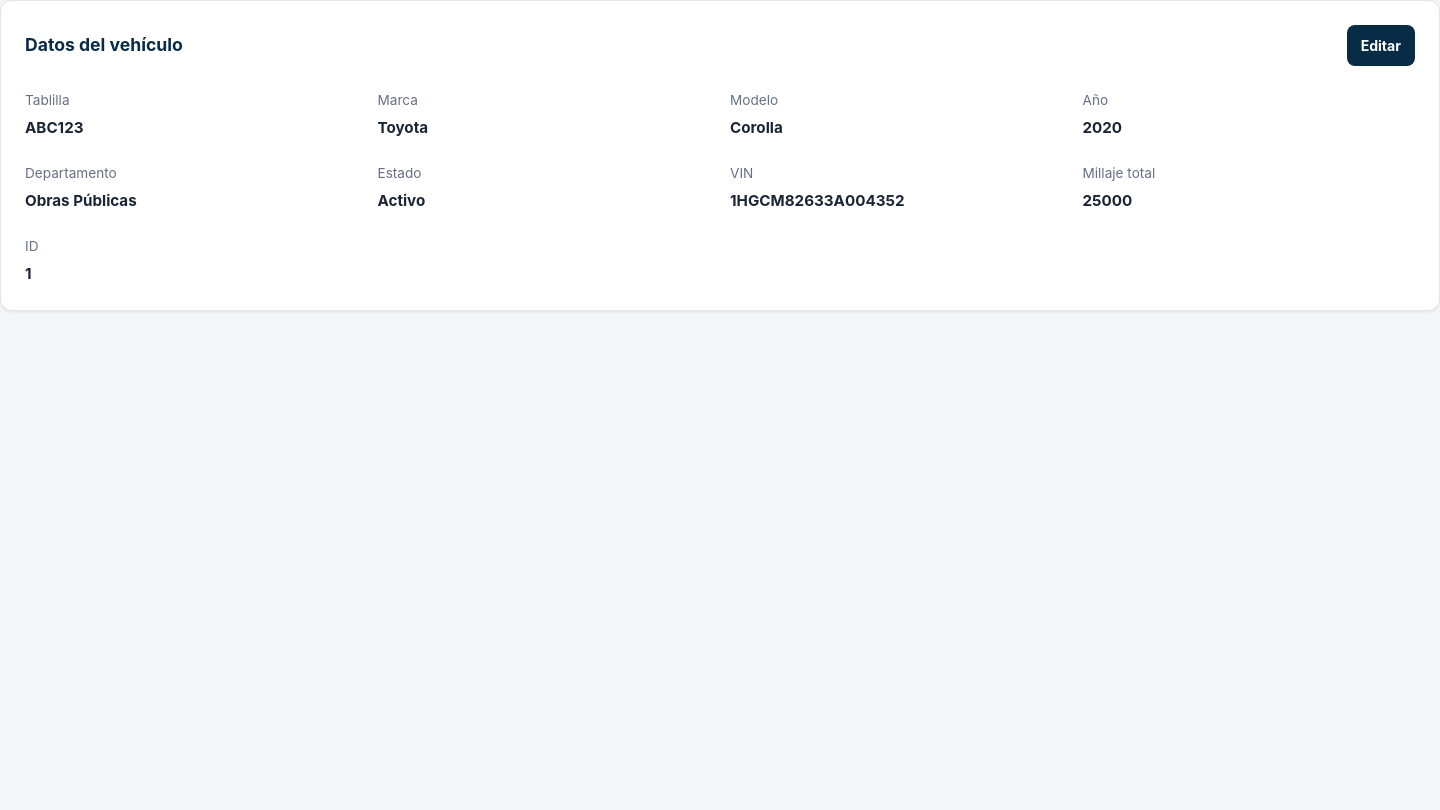
Test case: Vehicle Information - Component Tests › VI-UT-FE-09 cancels without saving changes
Click the button "Editar".
click(1381, 46)  # box left=1347, top=25, right=1415, bottom=66
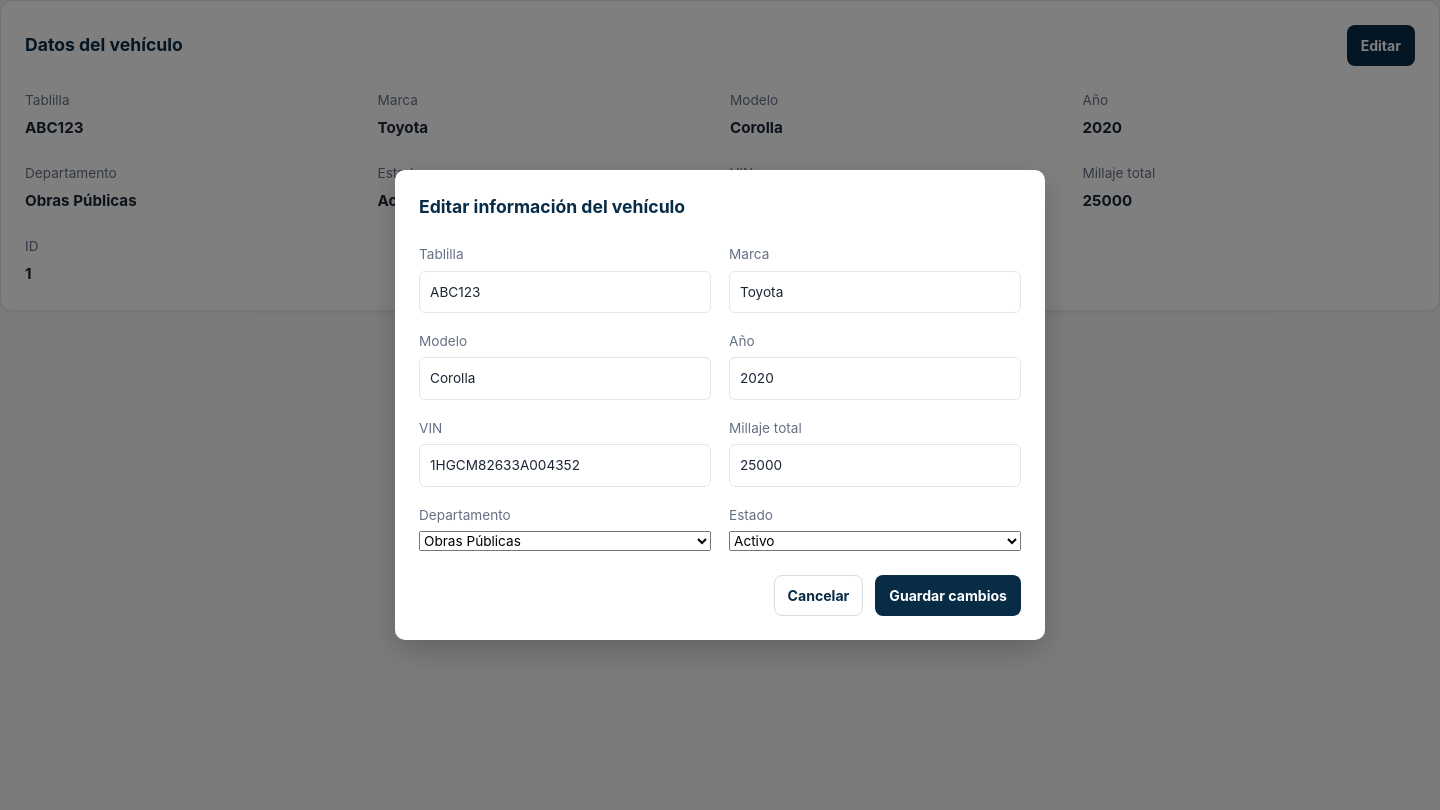
Replace the text in the field labelled "Marca" with "Honda" at [875, 292], box left=729, top=271, right=1021, bottom=313
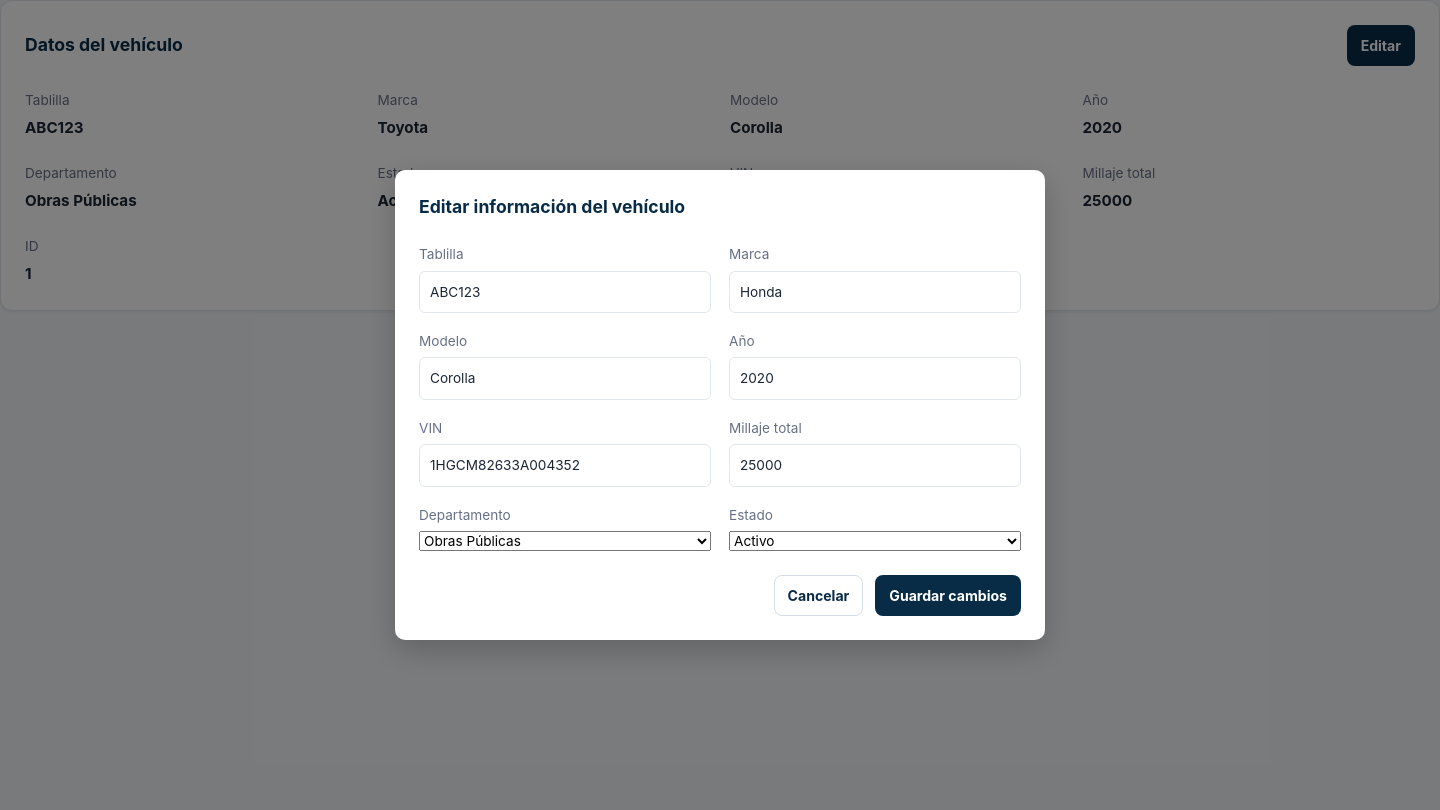
Click the button "Cancelar".
click(818, 596)  # box left=774, top=575, right=863, bottom=616
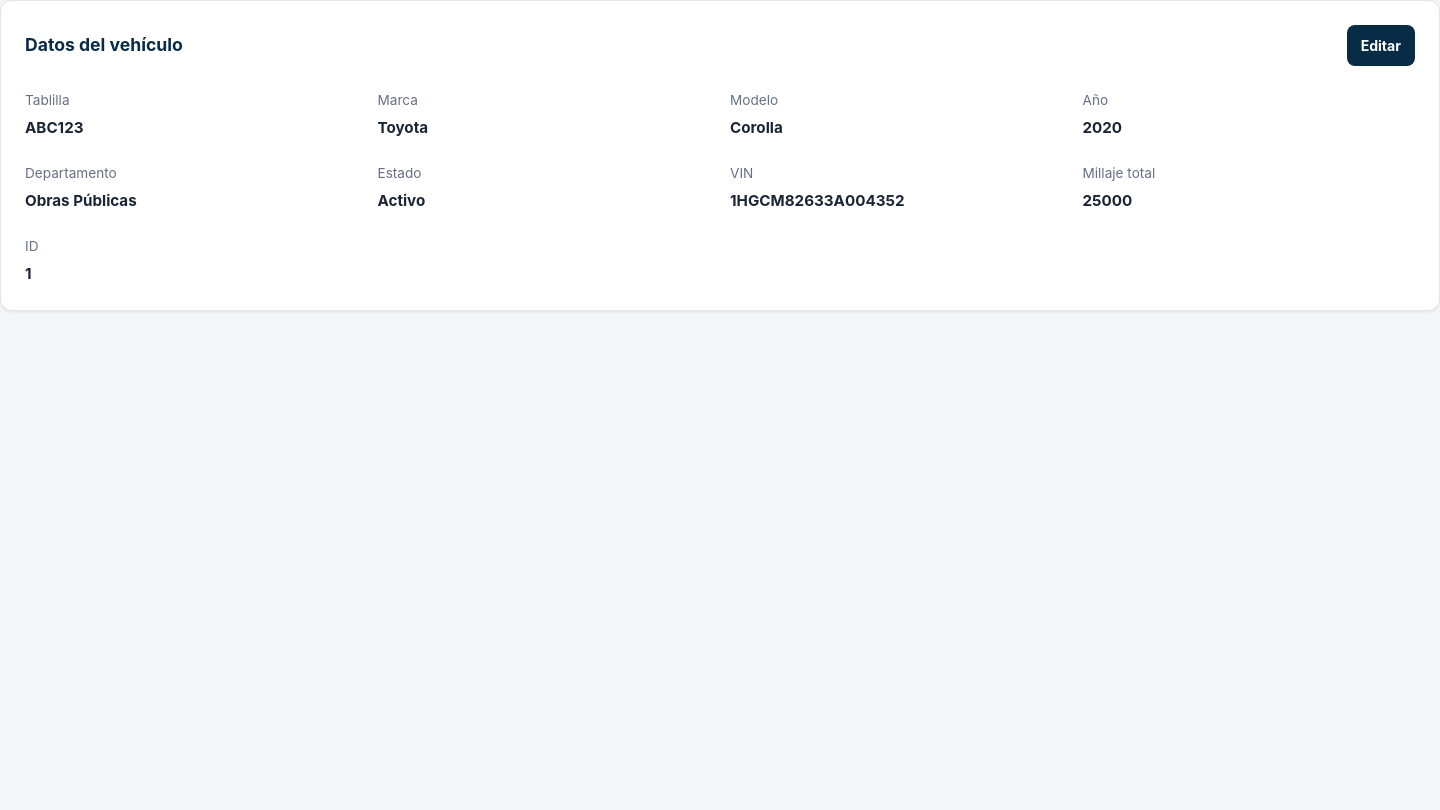
Expected: the text "Toyota" is shown, left=378, top=116, right=428, bottom=139
Expected: the heading "Editar información del vehículo" is gone
